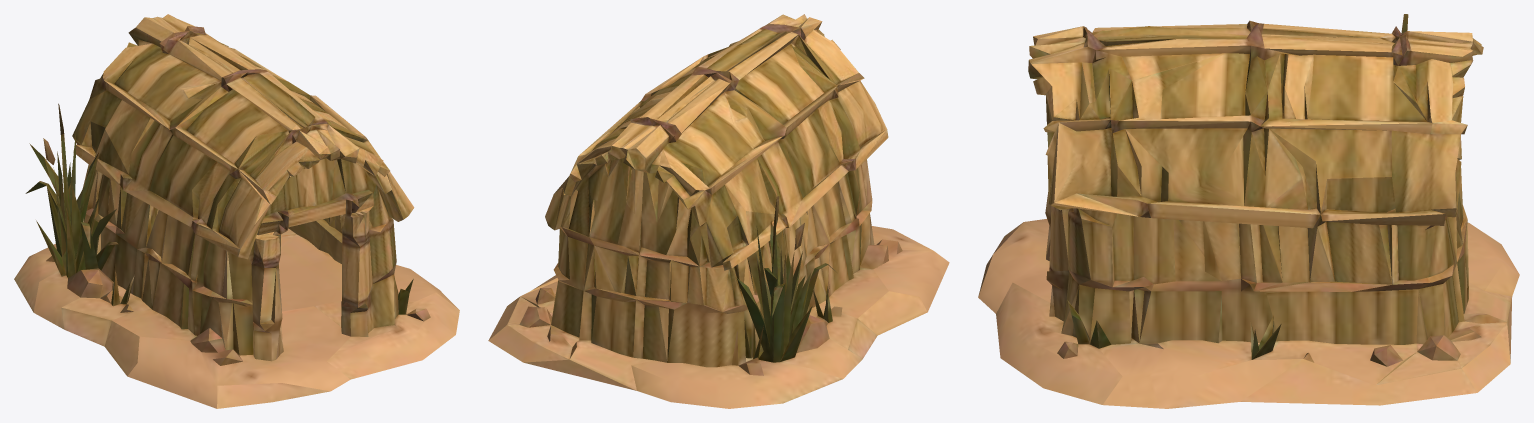
The model's file is egypt-reed-hut.glb.
3 renders of one model, left to right at view 1: azimuth 30°, elevation 25°; view 2: azimuth 150°, elevation 25°; view 3: azimuth 270°, elevation 25°, orthographic. The views are drawn at different scales.
Bounding box in the file's own units: 1.63 × 1.1 × 1.9.
1 material, 1 textured.
